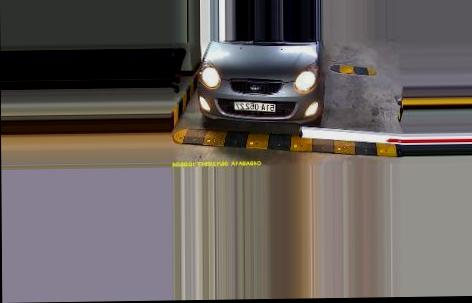License_Plate: (232, 100, 276, 114)
